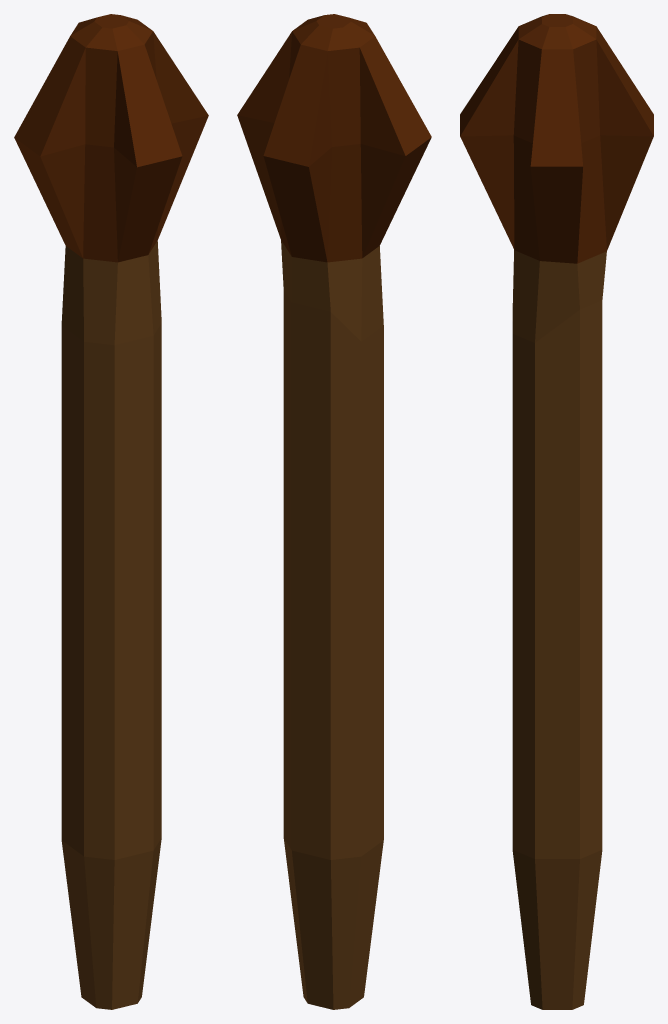
File: BronzeMace.glb
The picture shows the model from 3 angles, left to right: view 1: azimuth 30°, elevation 25°; view 2: azimuth 150°, elevation 25°; view 3: azimuth 270°, elevation 25°; orthographic projection.
Visible parts, largest first — view 1: Mace; view 2: Mace; view 3: Mace.
Part boxes in pixels (<box>): Mace: <box>14,14,208,1009</box>; Mace: <box>237,14,431,1009</box>; Mace: <box>460,14,653,1009</box>.
Bounding box in the file's own units: 0.1021 × 0.5647 × 0.1013.
